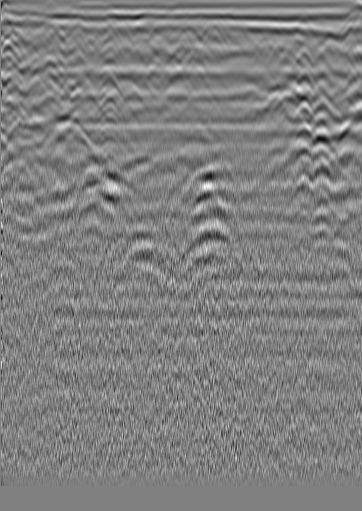가스: (109, 224, 156, 267)
상수: (294, 34, 314, 54)
오수: (5, 29, 25, 49)
우수: (184, 27, 204, 47)
